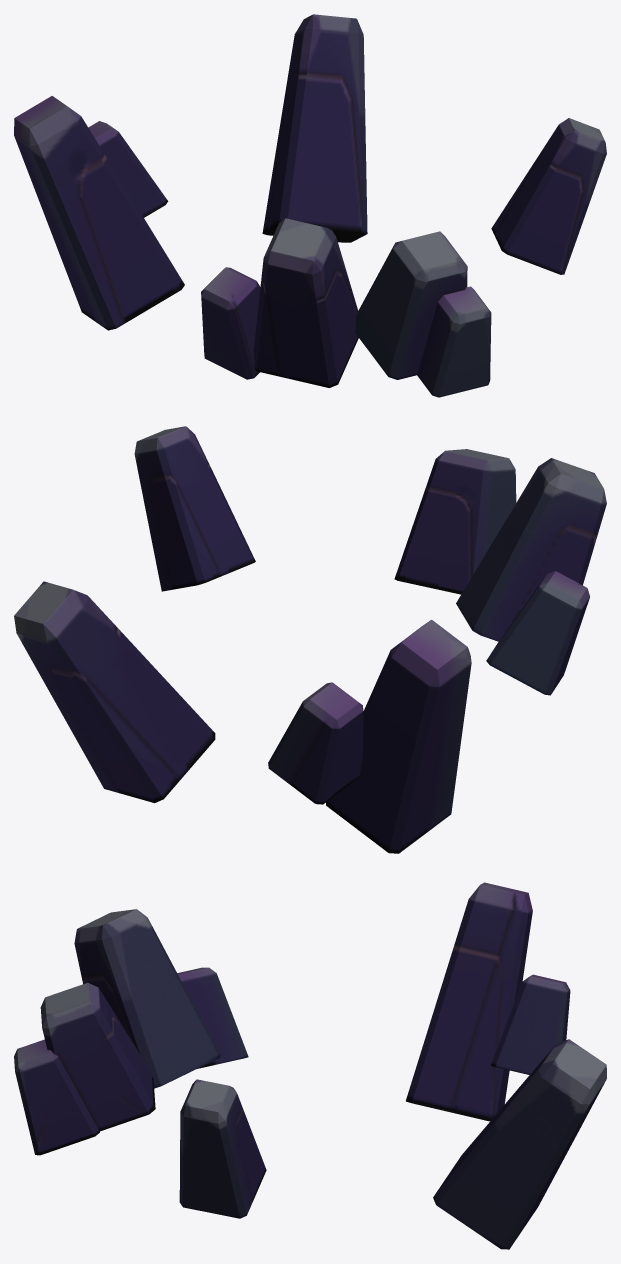
File: Ore_Squished_D.fbx
3 renders of one model, top to bottom at view 1: azimuth 30°, elevation 25°; view 2: azimuth 150°, elevation 25°; view 3: azimuth 270°, elevation 25°, orthographic. The views are drawn at different scales.
Visible parts, largest first — view 1: Ore_Squished_D; view 2: Ore_Squished_D; view 3: Ore_Squished_D.
Boxes of the visible parts, x1=… form: Ore_Squished_D: x1=14, y1=14, x2=606, y2=397; Ore_Squished_D: x1=14, y1=426, x2=606, y2=853; Ore_Squished_D: x1=14, y1=882, x2=606, y2=1249.
Bounding box in the file's own units: 0.8057 × 0.3798 × 0.9231.
